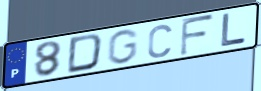8: (34, 40, 62, 78)
C: (146, 24, 174, 60)
D: (66, 32, 105, 75)
F: (178, 13, 216, 58)
G: (106, 28, 141, 65)
L: (219, 12, 248, 49)
